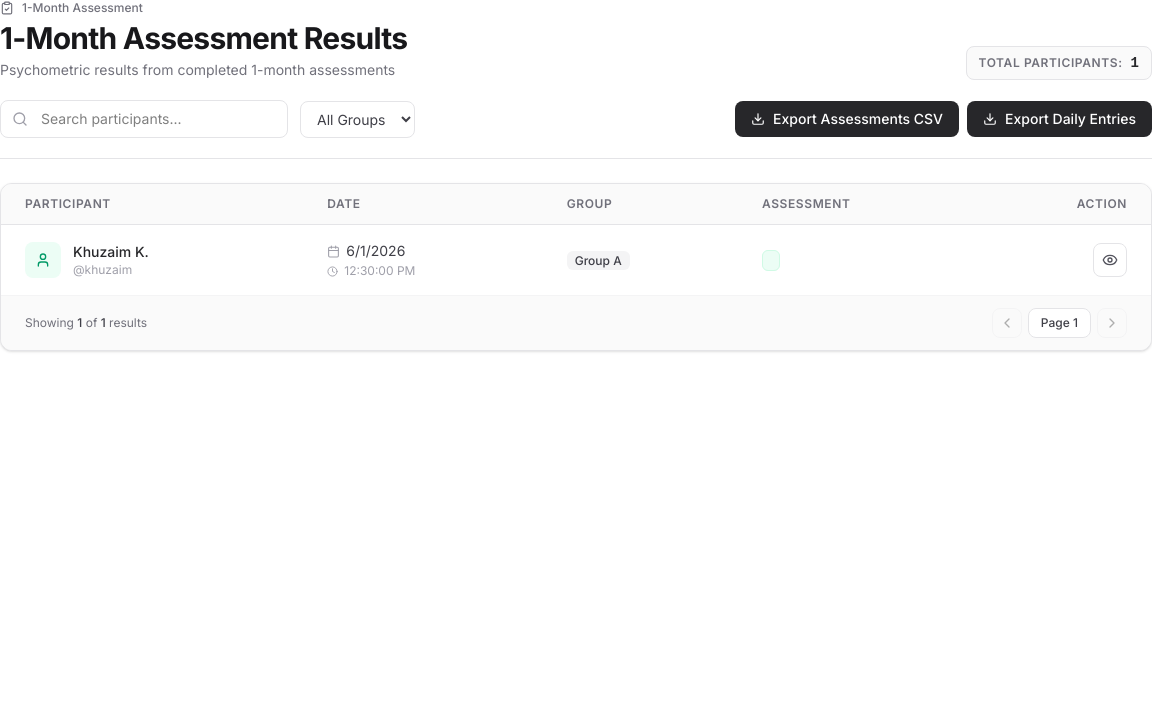
Scenario: AdminTFirstMonthResultsPage › retrieves and displays T-First-Month response detail inside the modal
Check: the text "Khuzaim K." is shown, box [73, 242, 149, 262]
Click the button named "View Details" at (1110, 260), box [1093, 243, 1127, 277]
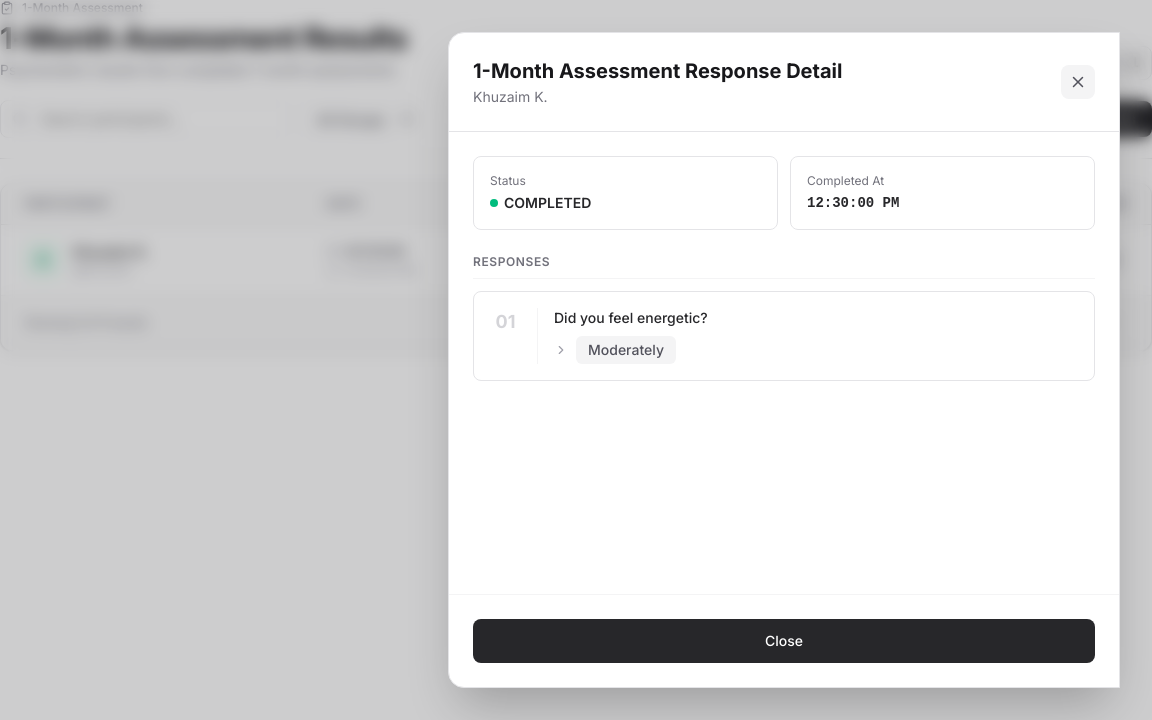
Check: the heading "1-Month Assessment Response Detail" is shown, box [473, 57, 842, 85]
Check: the text "Did you feel energetic?" is shown, box [554, 309, 708, 326]
Check: the text "Moderately" is shown, box [576, 336, 676, 364]
